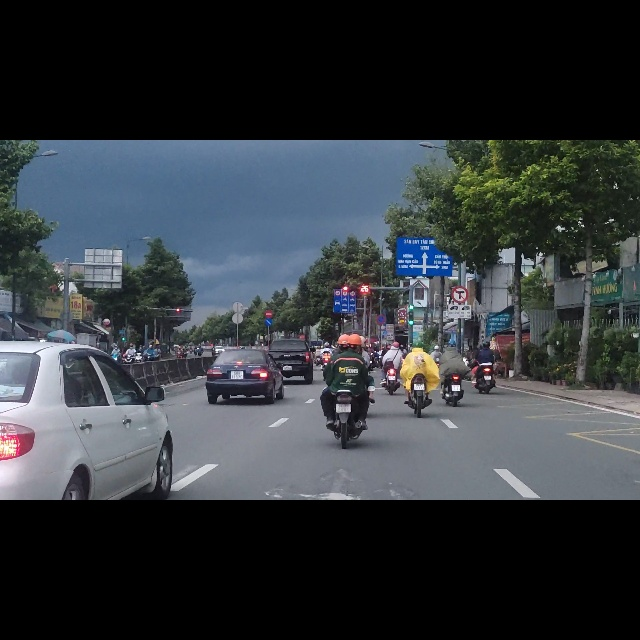bien_chi_dan: (334, 277, 356, 307), (452, 261, 468, 290), (376, 311, 385, 326), (264, 302, 273, 316), (265, 318, 272, 331), (335, 268, 340, 277), (350, 268, 355, 277)
